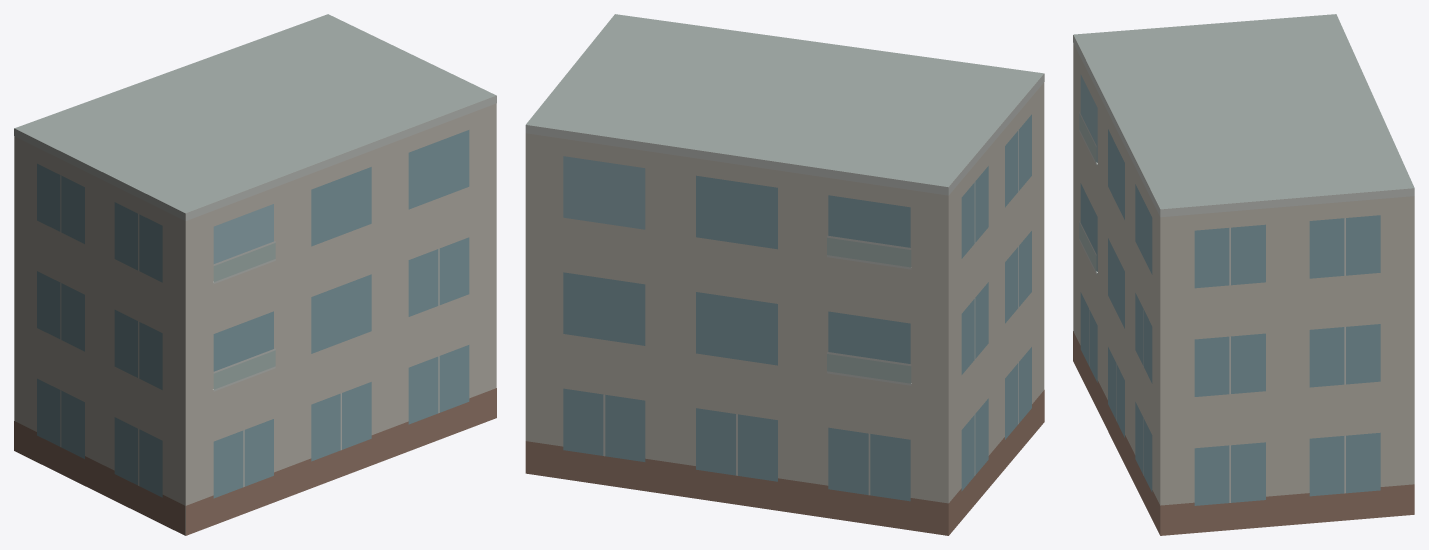
File: survey-upis-32613576.glb
The picture shows the model from 3 angles, left to right: view 1: azimuth 30°, elevation 25°; view 2: azimuth 150°, elevation 25°; view 3: azimuth 270°, elevation 25°; orthographic projection. The views are drawn at different scales.
Visible parts, largest first — view 1: survey-upis-32613576.tmp; view 2: survey-upis-32613576.tmp; view 3: survey-upis-32613576.tmp.
Boxes of the visible parts, <box> form: survey-upis-32613576.tmp: <box>14,14,496,535</box>; survey-upis-32613576.tmp: <box>525,14,1044,535</box>; survey-upis-32613576.tmp: <box>1073,14,1414,535</box>.
Bounding box in the file's own units: 12.97 × 10.1 × 9.59.
